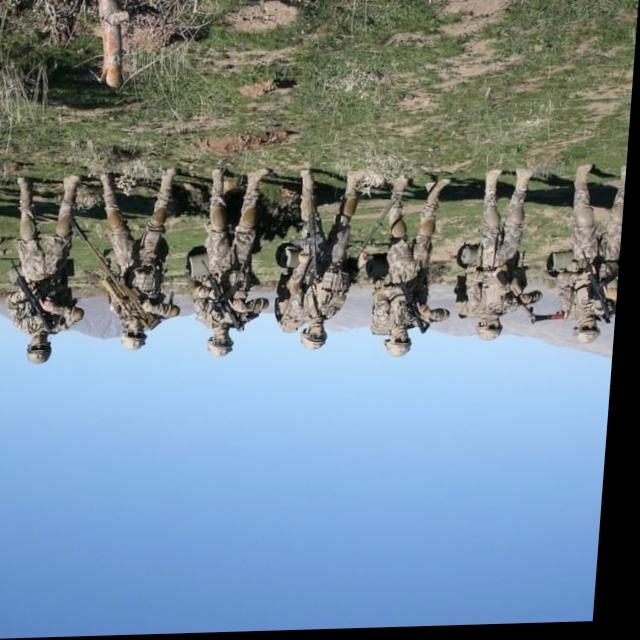poh_personel: (92, 170, 194, 353), (194, 168, 283, 360), (8, 177, 97, 365), (374, 179, 462, 361), (290, 169, 376, 353), (467, 172, 555, 345), (557, 167, 629, 349)
